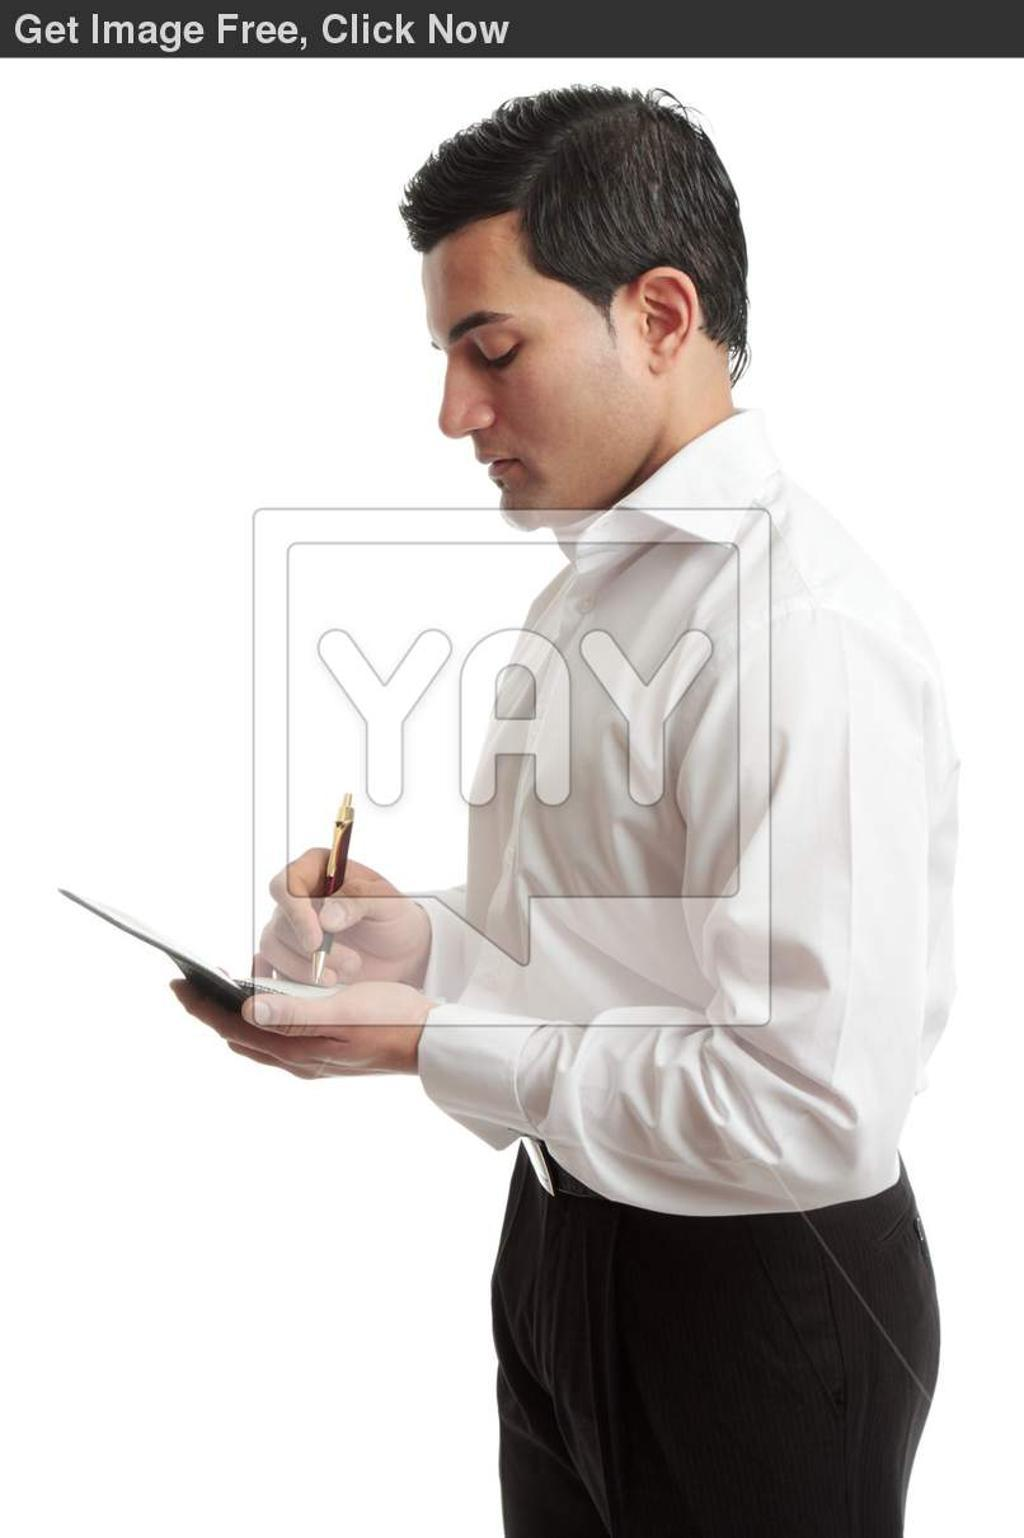face: (421, 223, 658, 523)
